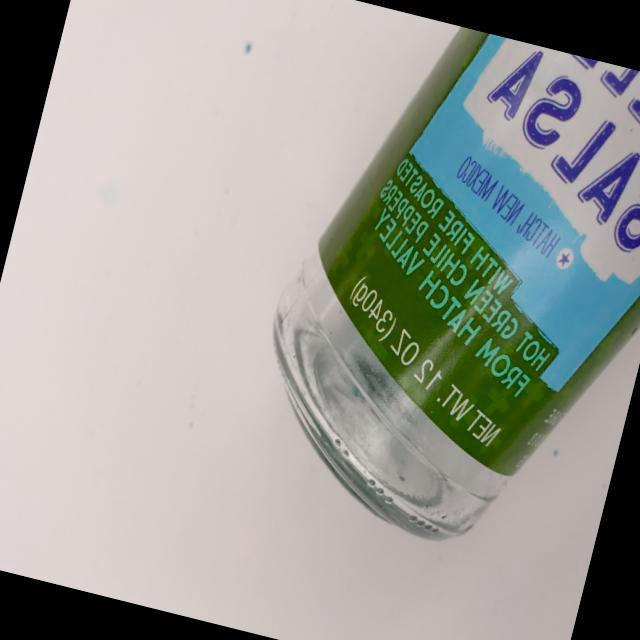glass: (199, 0, 640, 593)
